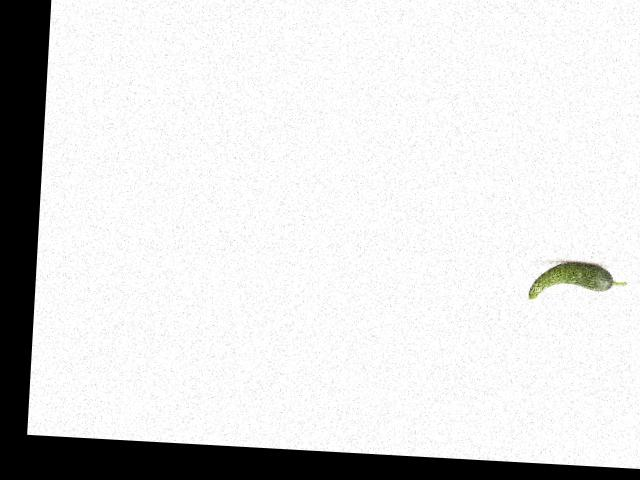cucumber: (528, 260, 628, 304)
